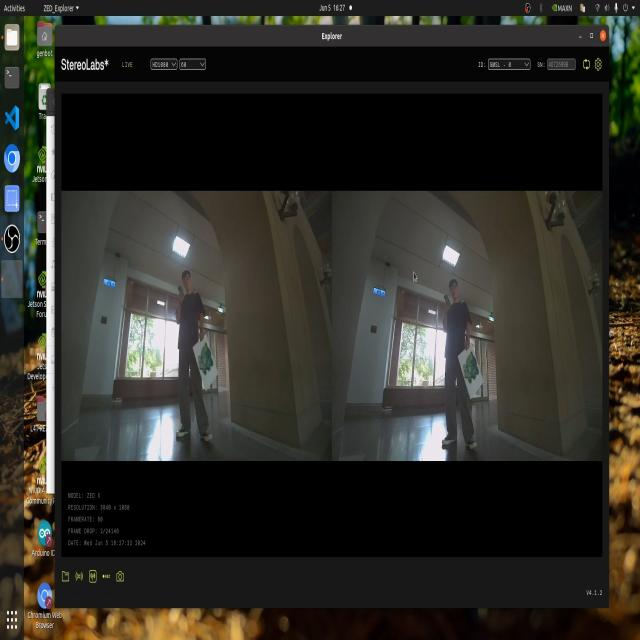green: (190, 336, 220, 379), (458, 354, 479, 394)
